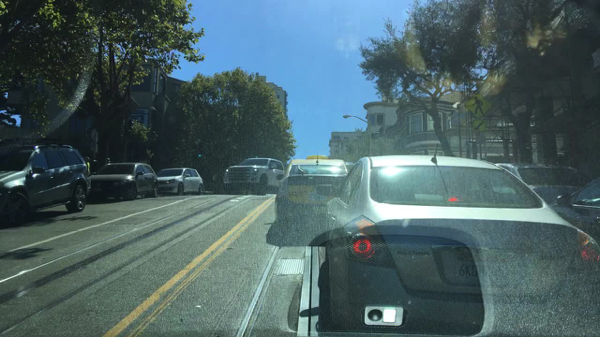car: (324, 144, 599, 337), (0, 138, 92, 228), (274, 154, 348, 228), (496, 163, 591, 210), (548, 177, 598, 246), (86, 162, 160, 202), (222, 156, 286, 194), (156, 168, 205, 195), (344, 161, 356, 172)
person: (83, 155, 91, 173), (92, 159, 99, 171), (104, 157, 112, 166)
traffic sign: (465, 91, 492, 117), (91, 127, 100, 143), (474, 120, 486, 132), (89, 144, 100, 152)
